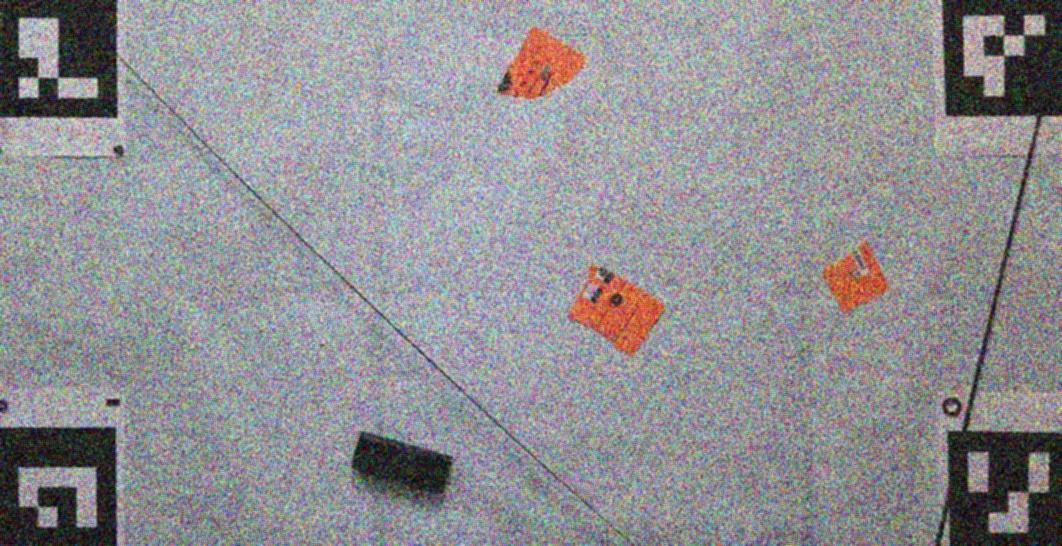obstacle: (567, 263, 667, 357), (351, 428, 452, 495), (497, 26, 586, 101), (822, 237, 886, 315)
